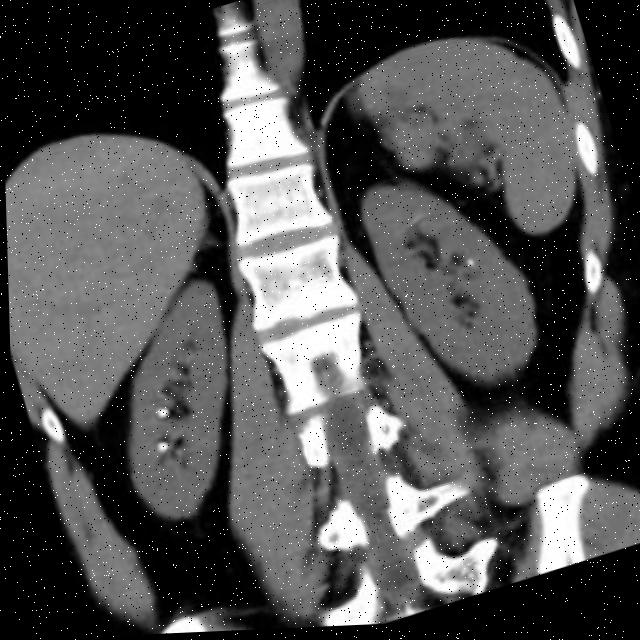Tas_Var: (149, 404, 168, 428), (459, 258, 476, 279), (149, 438, 165, 459)
